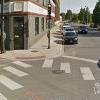Crosswalk: (10, 49, 91, 99)
